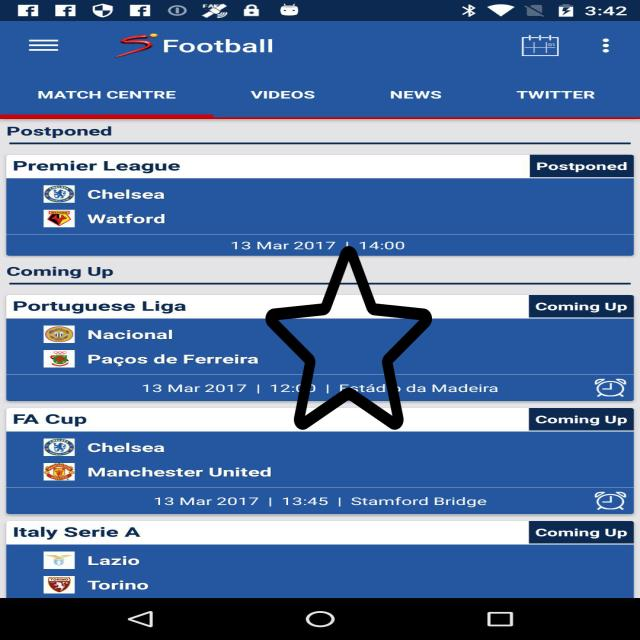forced continuity: (265, 242, 432, 434)
